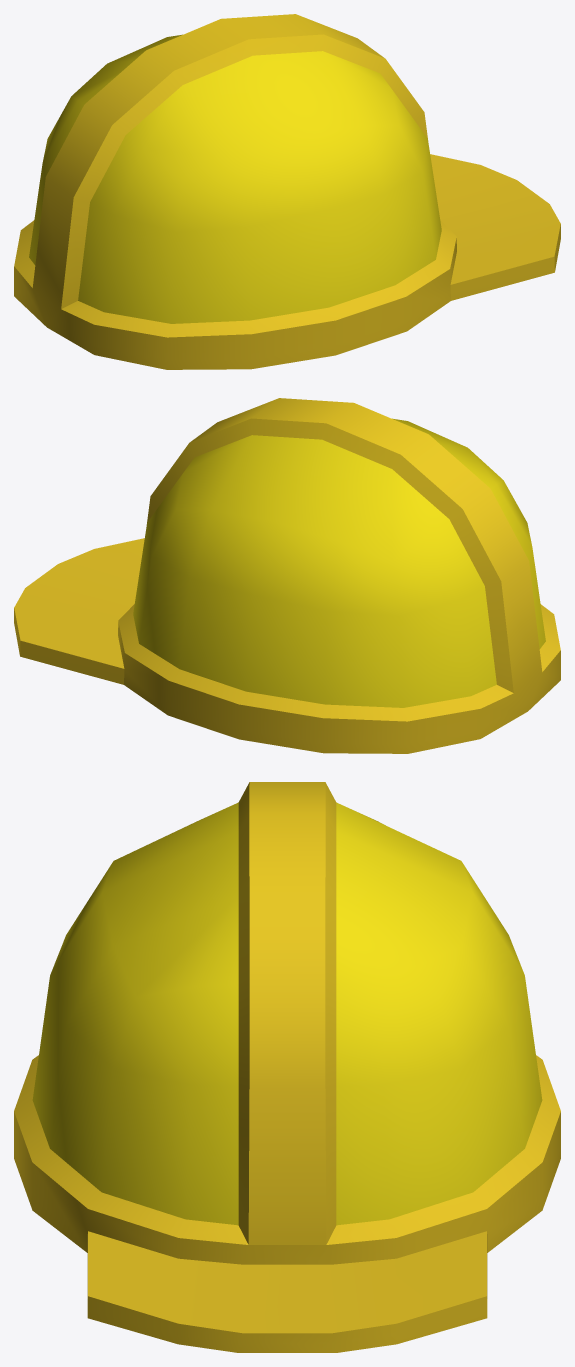
Rendered from Helmet_1_1.fbx.
3 renders of one model, top to bottom at view 1: azimuth 30°, elevation 25°; view 2: azimuth 150°, elevation 25°; view 3: azimuth 270°, elevation 25°, orthographic. The views are drawn at different scales.
Parts seen in each view (by area): view 1: Helmet_1_1; view 2: Helmet_1_1; view 3: Helmet_1_1.
Boxes of the visible parts, <box> form: Helmet_1_1: <box>14,14,560,369</box>; Helmet_1_1: <box>14,398,560,753</box>; Helmet_1_1: <box>14,782,560,1352</box>.
Size of the model in its own units: 71.35 by 35.46 by 51.02.
